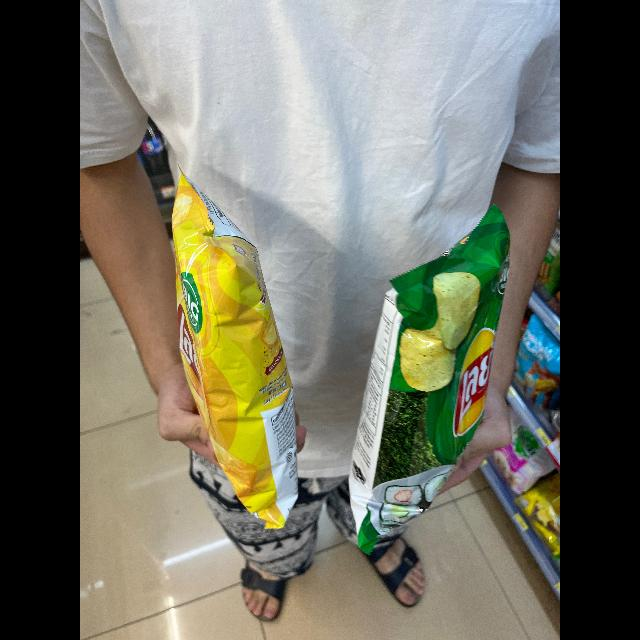snack_bag: (328, 197, 528, 557), (162, 157, 314, 525)
